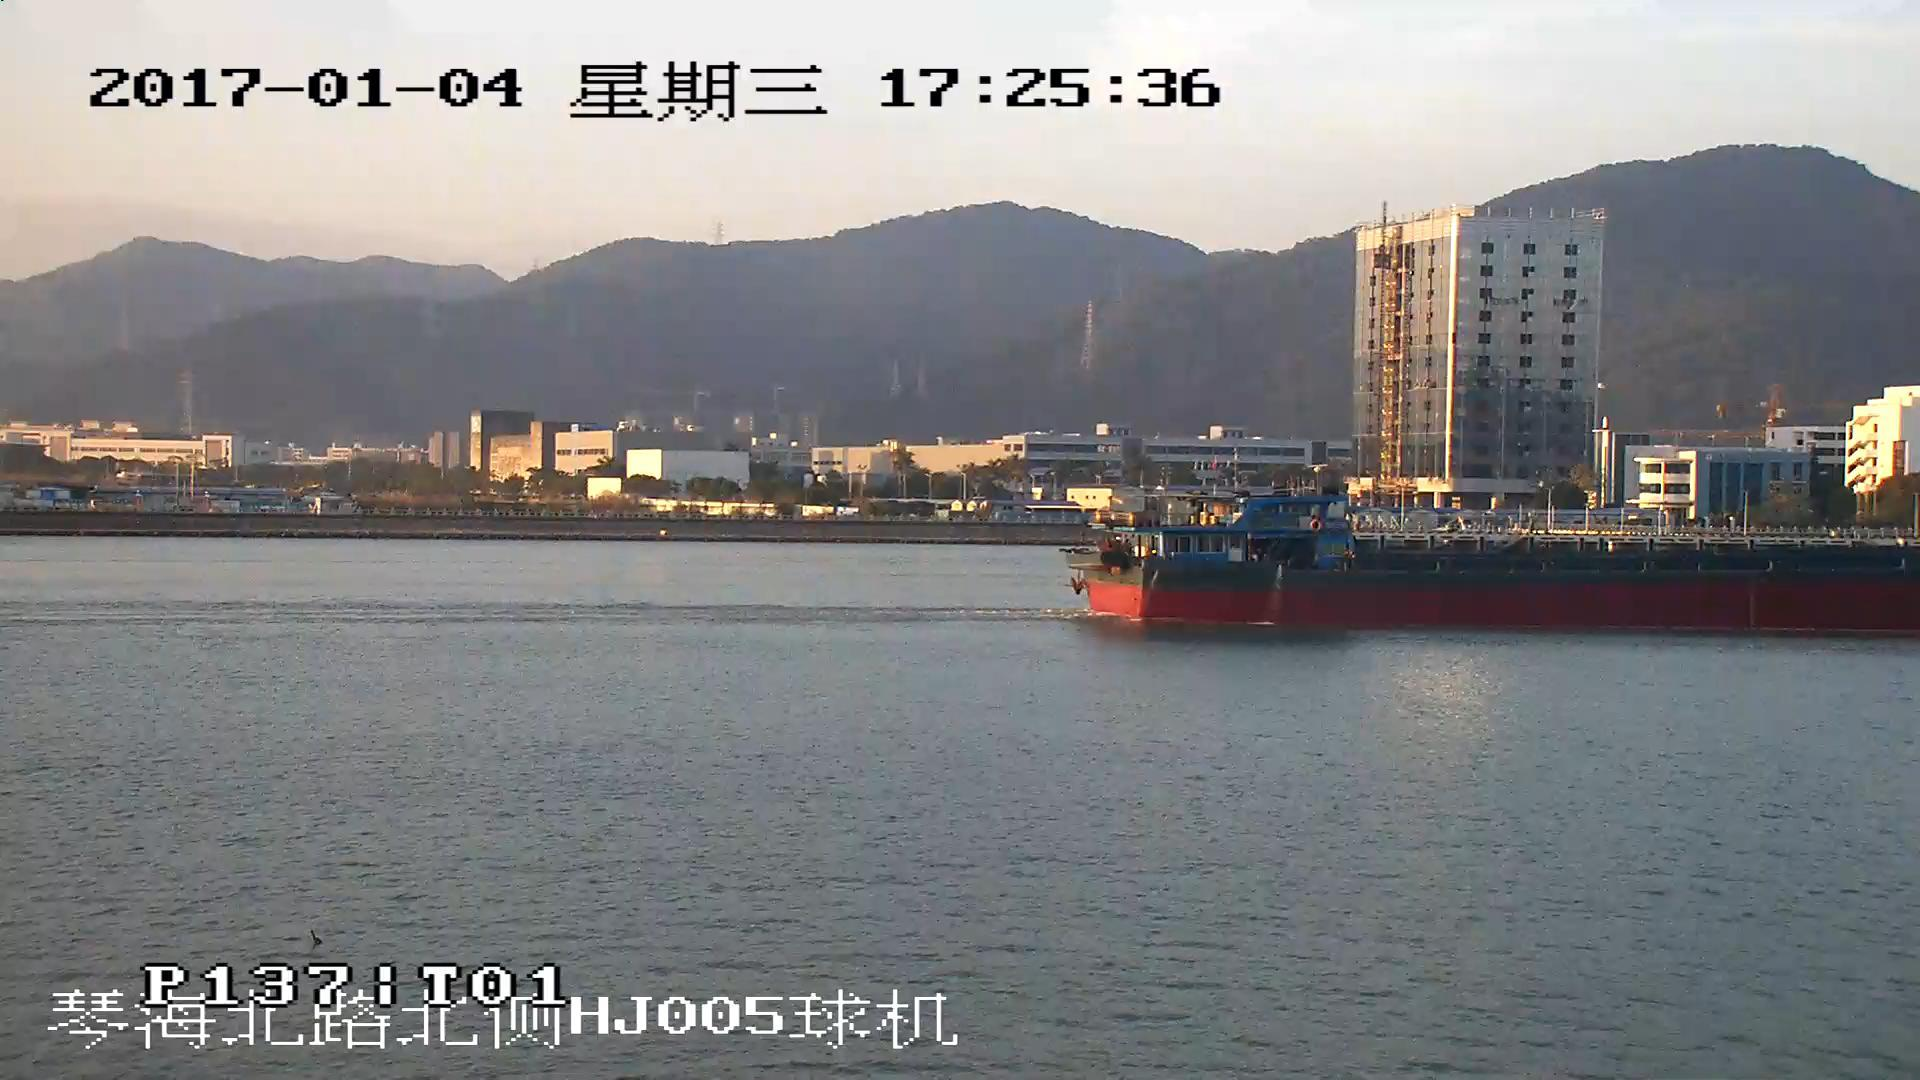Ship: (1065, 489, 1920, 638)
